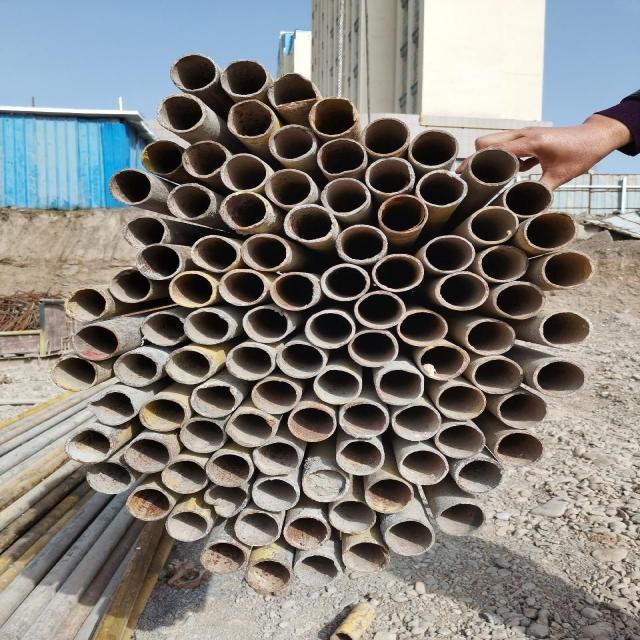pipe: (416, 232, 476, 274), (493, 389, 549, 431), (520, 212, 580, 250), (153, 94, 209, 134), (318, 262, 374, 302), (432, 270, 488, 310), (409, 129, 462, 171), (316, 178, 374, 216), (413, 168, 468, 208), (476, 241, 528, 283), (370, 366, 422, 408), (240, 232, 293, 273), (362, 475, 416, 515), (338, 536, 392, 576), (162, 347, 214, 388), (248, 439, 304, 477), (268, 270, 321, 310), (492, 430, 545, 470), (81, 389, 138, 426), (540, 250, 595, 288), (268, 71, 320, 111), (308, 96, 360, 136), (376, 192, 428, 232), (304, 310, 356, 350), (436, 381, 488, 421), (531, 359, 587, 396), (345, 329, 398, 368), (452, 454, 500, 497), (464, 148, 518, 186), (489, 282, 546, 318), (538, 310, 592, 348), (468, 356, 522, 394), (274, 342, 328, 380), (434, 501, 488, 539), (313, 366, 363, 407), (394, 308, 446, 347), (466, 318, 518, 357), (240, 557, 292, 596), (376, 252, 424, 294), (223, 101, 276, 139), (334, 222, 387, 260), (240, 306, 293, 344), (62, 427, 115, 465), (168, 54, 218, 94), (218, 58, 268, 98), (180, 138, 230, 178), (192, 232, 242, 272), (338, 399, 388, 439), (366, 156, 418, 194), (48, 357, 100, 395), (200, 451, 252, 489), (399, 449, 452, 486), (220, 152, 269, 192), (286, 403, 336, 442), (392, 403, 442, 442), (226, 411, 277, 449), (499, 180, 551, 217), (466, 206, 518, 243), (140, 310, 188, 350), (382, 519, 435, 555), (362, 118, 412, 156), (264, 170, 314, 208), (134, 244, 184, 282), (232, 511, 282, 549), (282, 206, 334, 242), (187, 382, 239, 418), (160, 458, 212, 494), (164, 508, 216, 544), (280, 515, 332, 551), (162, 183, 212, 220), (218, 192, 268, 229), (223, 344, 273, 381), (181, 308, 232, 344), (251, 378, 302, 414), (179, 416, 226, 455), (167, 271, 215, 309), (218, 268, 266, 306), (288, 553, 340, 588), (106, 268, 155, 305), (415, 346, 468, 380), (111, 352, 164, 386), (268, 124, 318, 160), (70, 326, 120, 362), (334, 439, 384, 475), (140, 138, 187, 176), (439, 422, 486, 460), (124, 485, 171, 523), (136, 397, 187, 432), (62, 284, 108, 322), (124, 437, 170, 475), (196, 539, 247, 573), (106, 168, 156, 202), (82, 462, 132, 496), (326, 500, 376, 534), (304, 468, 351, 504), (200, 483, 247, 518), (253, 477, 300, 512), (122, 216, 170, 249)
